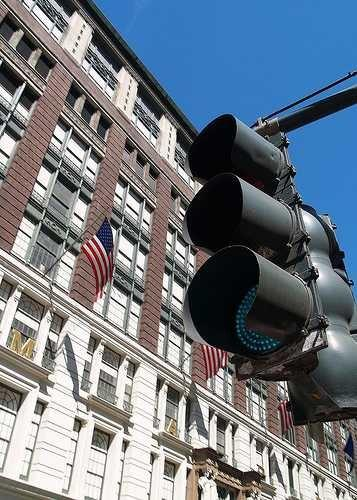green: (182, 113, 316, 376)
